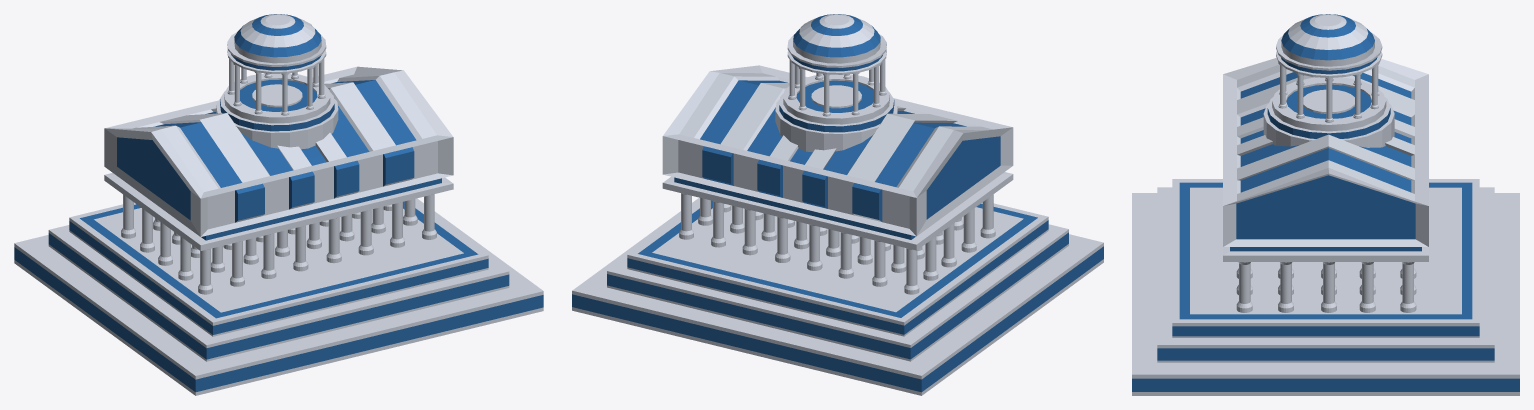
The model's file is Temple2.fbx.
The picture shows the model from 3 angles, left to right: view 1: azimuth 30°, elevation 25°; view 2: azimuth 150°, elevation 25°; view 3: azimuth 270°, elevation 25°; orthographic projection. The views are drawn at different scales.
Visible parts, largest first — view 1: pCylinder268; view 2: pCylinder268; view 3: pCylinder268.
Boxes of the visible parts, bbox=[...] form: pCylinder268: bbox=[14, 14, 543, 395]; pCylinder268: bbox=[572, 14, 1103, 395]; pCylinder268: bbox=[1132, 14, 1519, 395].
Size of the model in its own units: 6.03 by 4.4 by 5.44.
